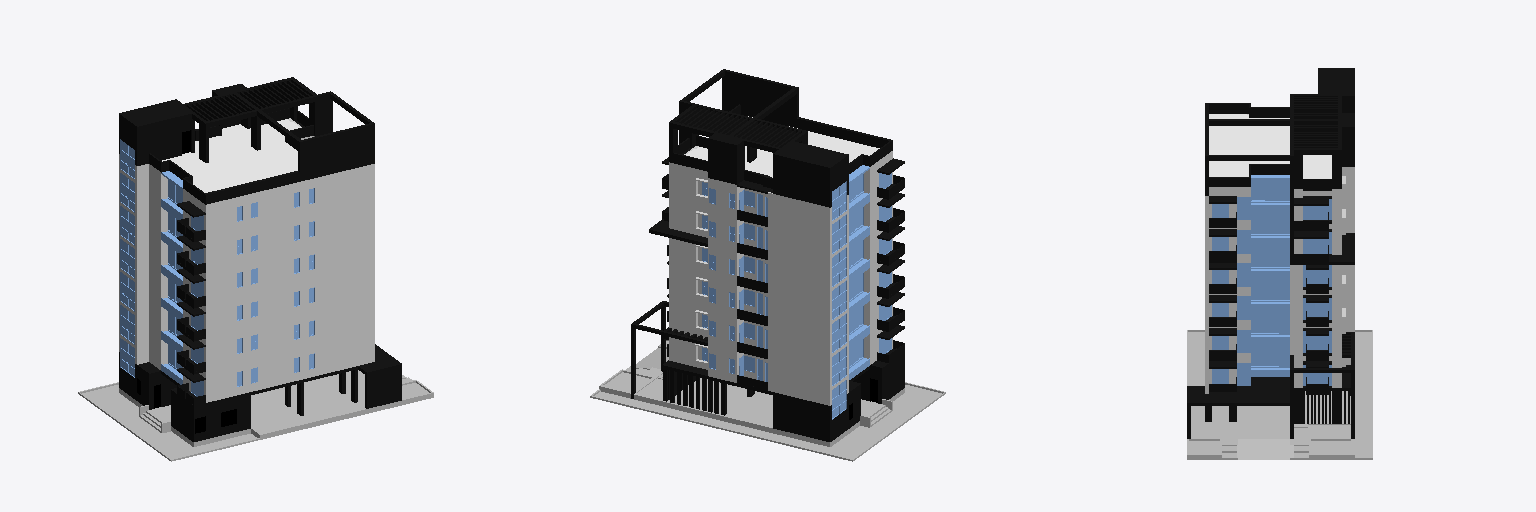
The model's file is apartment_building_1.obj.
The picture shows the model from 3 angles: view 1: azimuth 30°, elevation 25°; view 2: azimuth 150°, elevation 25°; view 3: azimuth 270°, elevation 25°; orthographic projection.
Visible parts, largest first — view 1: exterior_primary, roof_top, foundation, windows, floors, support_primary, balcony, support_secondary, balcony_doors, ground_windows; view 2: exterior_primary, roof_top, foundation, windows, balcony, support_primary, balcony_doors, floors, support_secondary; view 3: foundation, windows, roof_top, exterior_primary, balcony, floors, balcony_doors, support_secondary, support_primary.
Part boxes in pixels (x1,y1,x2,y2): exterior_primary: (119,118,374,402); roof_top: (119,77,374,204); foundation: (78,370,433,461); windows: (120,139,314,386); floors: (162,119,300,192); support_primary: (119,352,357,441); balcony: (171,98,332,408); support_secondary: (358,344,401,408); balcony_doors: (191,215,203,396); ground_windows: (137,378,236,433); exterior_primary: (669,146,892,405); roof_top: (669,69,892,207); foundation: (590,340,945,461); windows: (702,165,869,419); balcony: (649,106,904,393); support_primary: (662,355,904,441); balcony_doors: (739,173,891,381); floors: (686,116,879,177); support_secondary: (631,301,707,398); foundation: (1187,330,1372,459); windows: (1237,175,1289,385); roof_top: (1205,68,1354,195); exterior_primary: (1205,114,1354,393); balcony: (1209,161,1354,394); floors: (1209,114,1331,178); balcony_doors: (1212,199,1331,385); support_secondary: (1187,332,1354,438); support_primary: (1205,365,1350,423).
Size of the model in its own units: 999 by 1014 by 613.